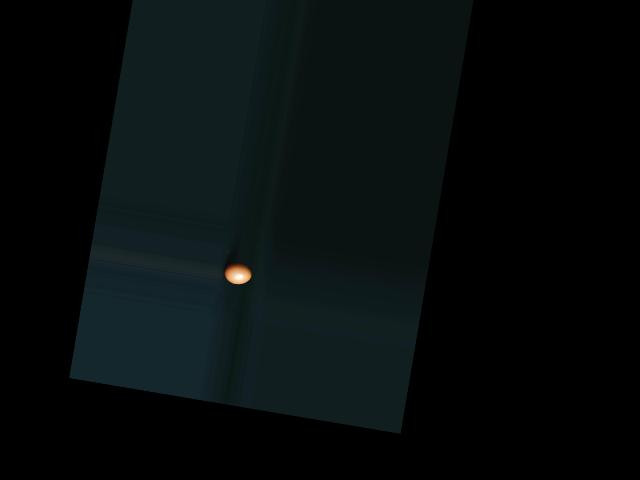egg: (222, 260, 252, 285)
